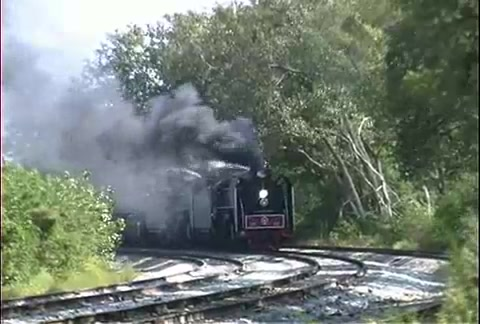train: (119, 167, 299, 254)
